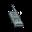Win: (5, 3, 27, 29)
